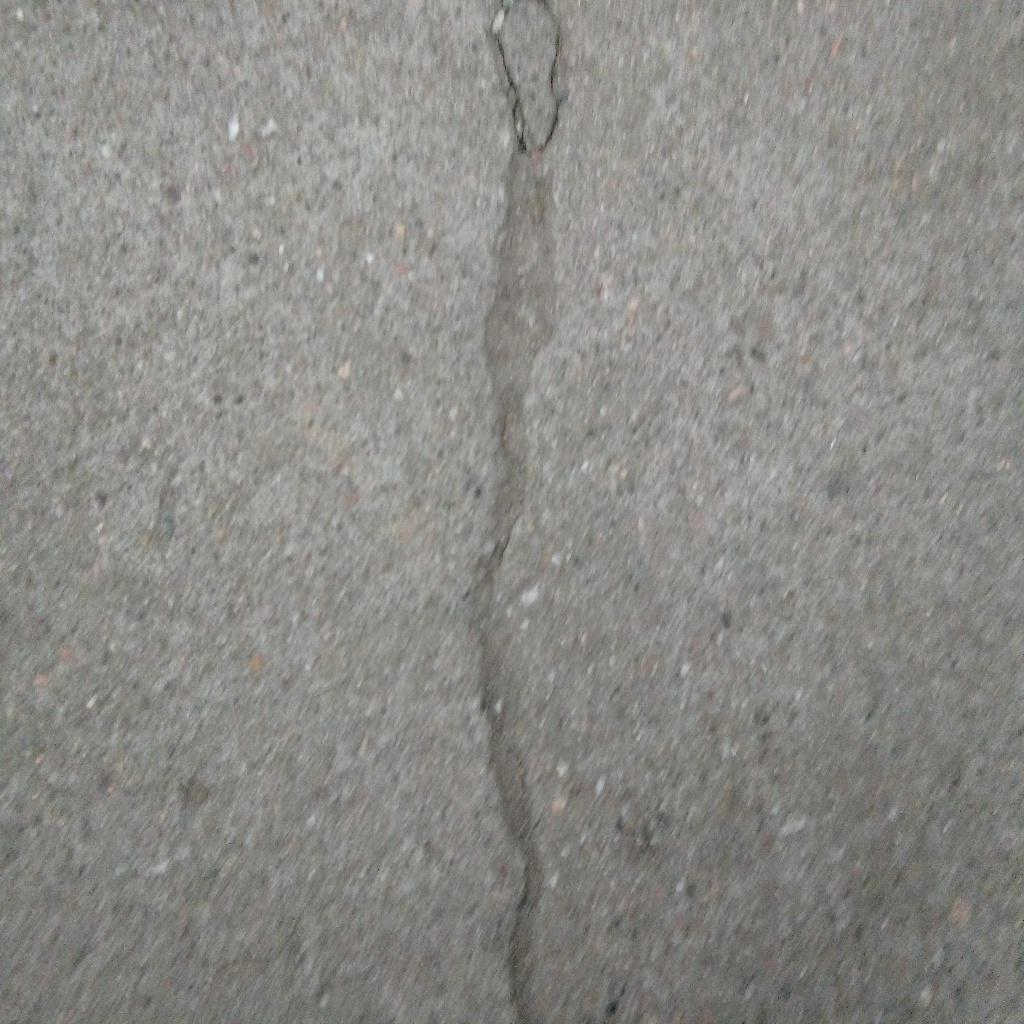Crack: (465, 1, 567, 1024)
